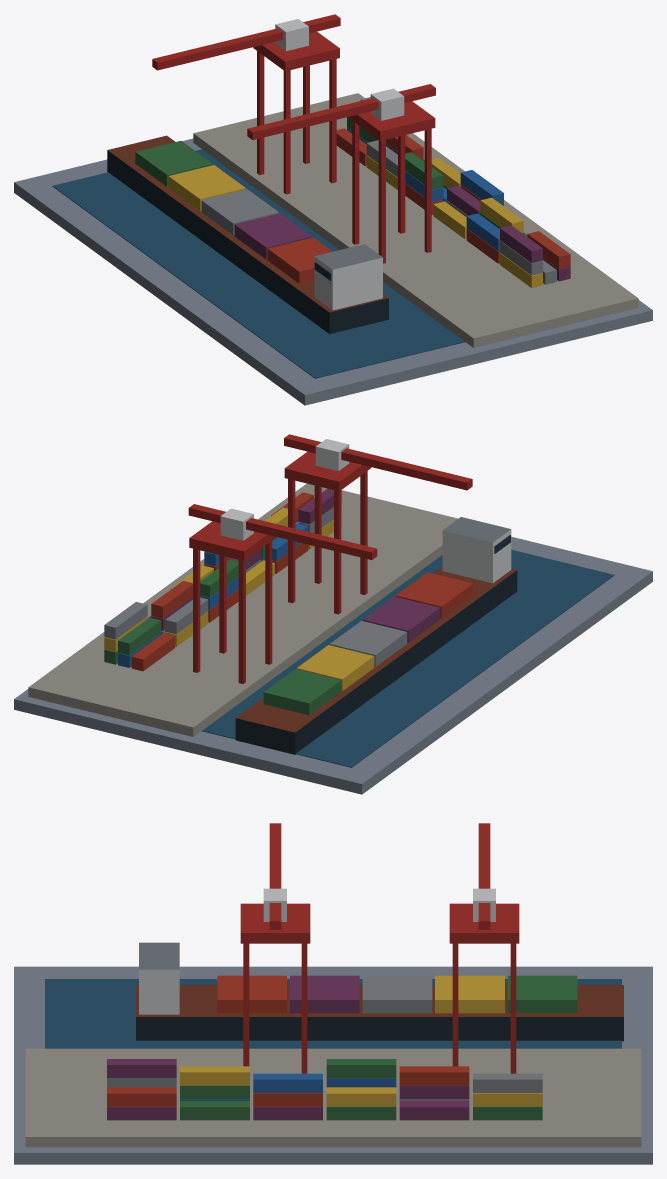
The model's file is port.glb.
The picture shows the model from 3 angles, top to bottom: view 1: azimuth 30°, elevation 25°; view 2: azimuth 150°, elevation 25°; view 3: azimuth 270°, elevation 25°; orthographic projection. The views are drawn at different scales.
Visible parts, largest first — view 1: port; view 2: port; view 3: port.
Boxes of the visible parts, box(x1,y1,x2,y2) form: port: box(14, 14, 652, 405); port: box(14, 434, 652, 794); port: box(14, 823, 652, 1164).
Size of the model in its own units: 76 by 36.35 by 110.
